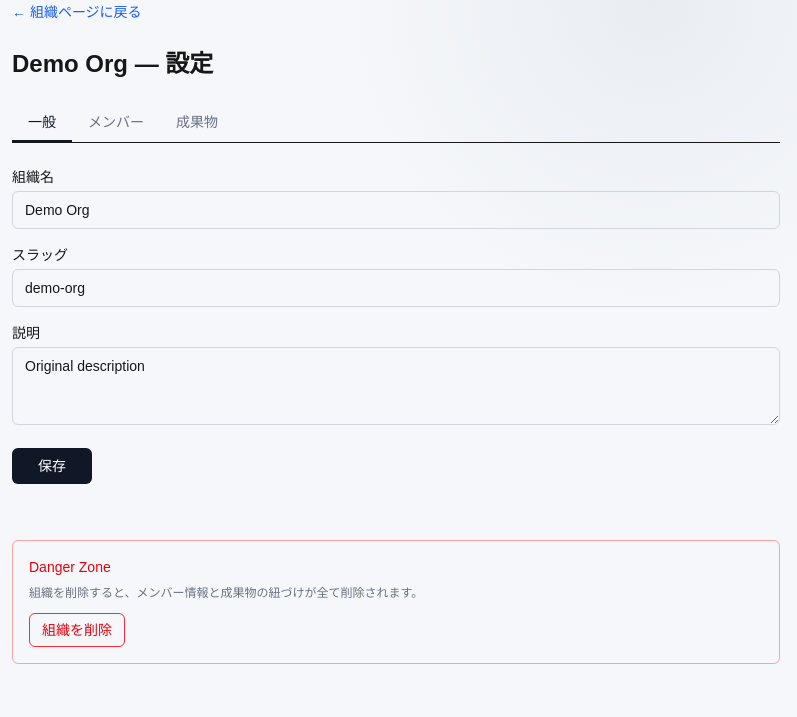
Scenario: OrgSettingsPage › saves general settings and routes to the renamed slug
This screenshot has width=797, height=717.
Expected: the heading "Demo Org — 設定" is shown, [12,48,213,80]
Replace the text in the field labelled "組織名" with "Renamed Org": (396, 210) [12,191,780,229]
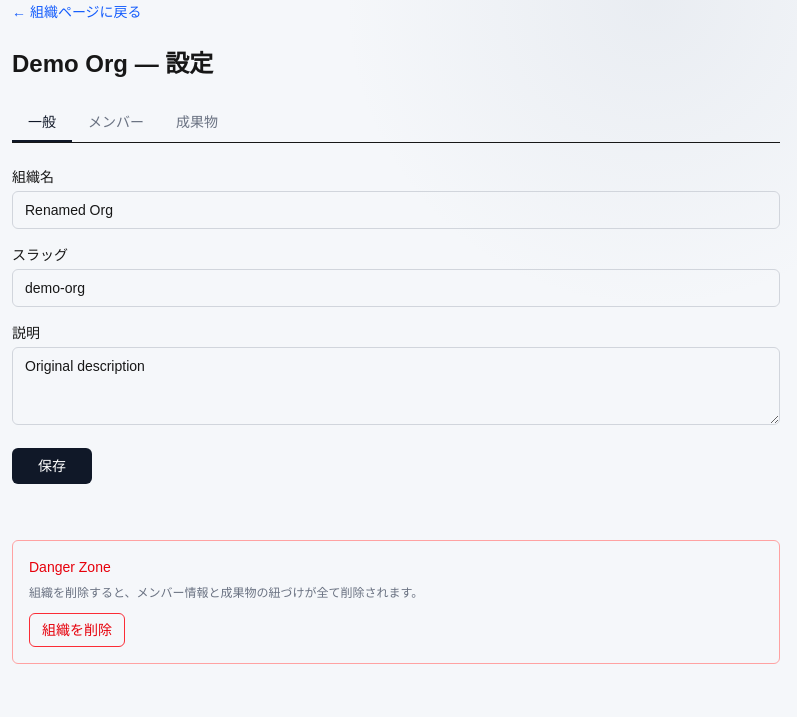
Replace the text in the field labelled "スラッグ" with "Renamed-Team!!": (396, 288) [12,269,780,307]
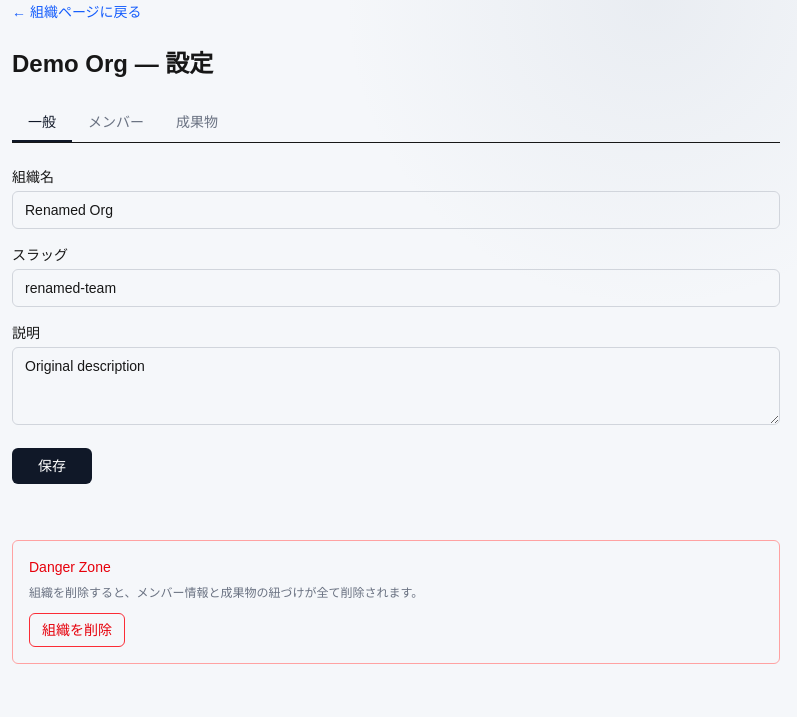
Replace the text in the text box labelled "説明" with " Updated description ": (396, 386) [12,347,780,425]
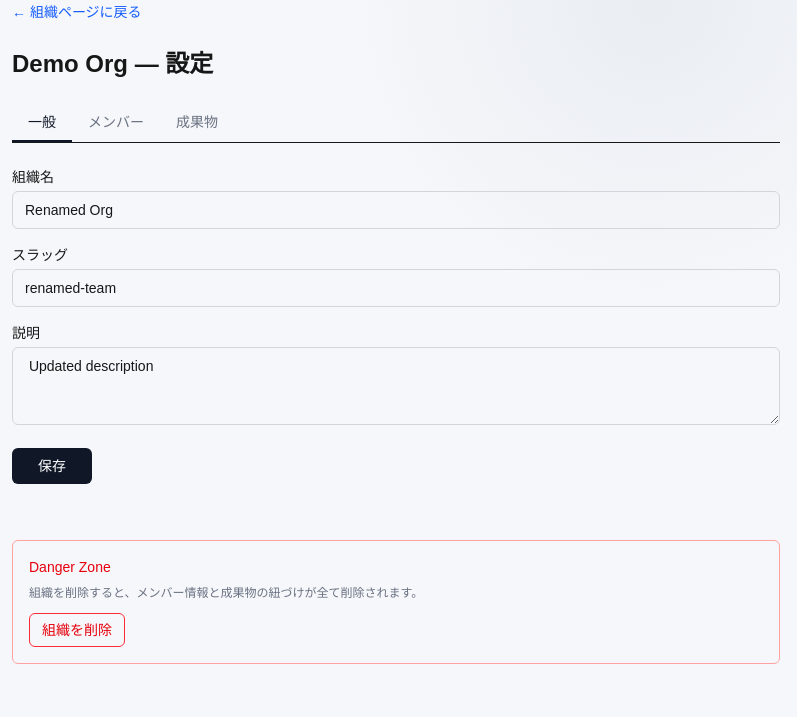
Click the button "保存": (52, 466) [12,448,92,484]
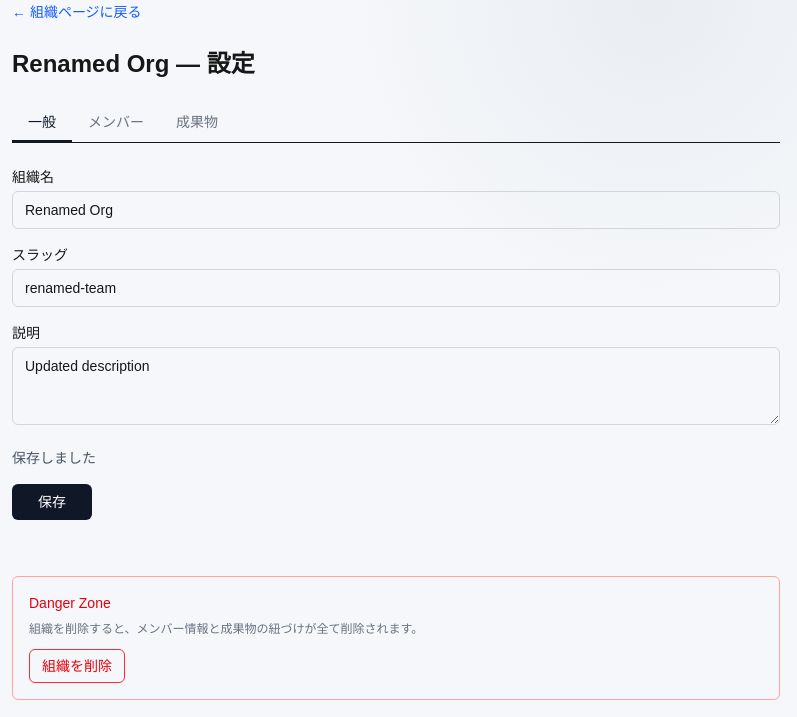
Now the text "保存しました" is shown, box [12,450,96,466]
